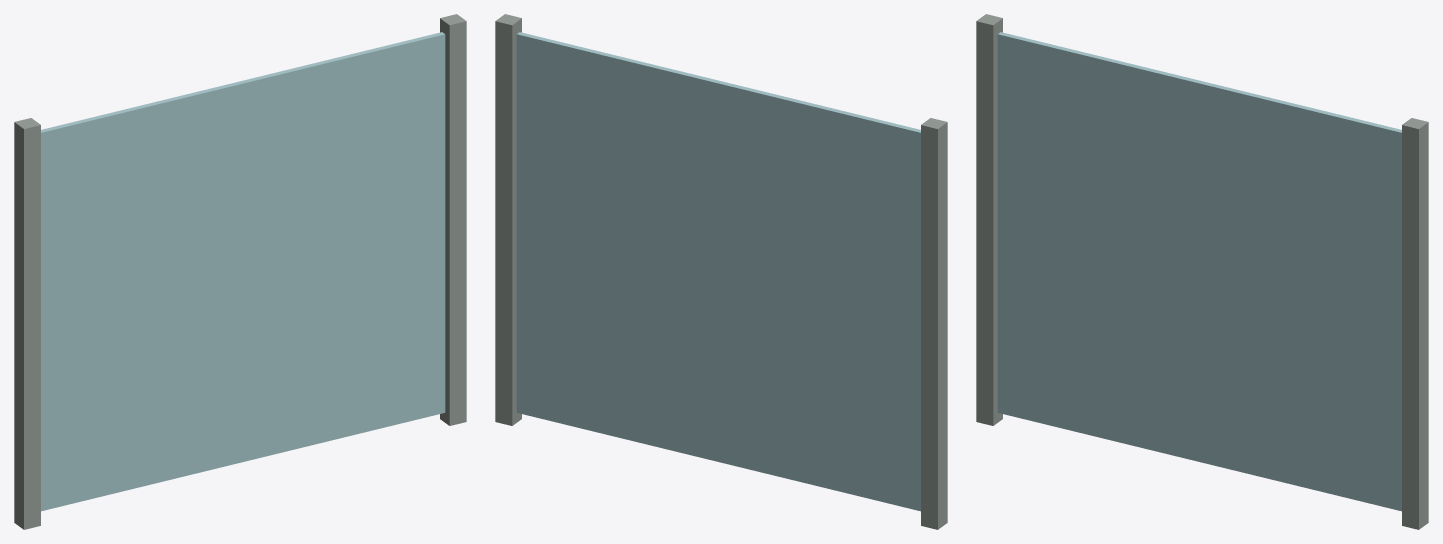
File: zoo-and-safari-park-builder-glass-viewing-straight-014e0c29__21432.glb
3 views of the same model, side by side, from view 1: azimuth 30°, elevation 25°; view 2: azimuth 150°, elevation 25°; view 3: azimuth 330°, elevation 25° (orthographic).
Parts seen in each view (by area): view 1: glass-viewing-straight; view 2: glass-viewing-straight; view 3: glass-viewing-straight.
Boxes of the visible parts, left/top/right/bottom form: glass-viewing-straight: left=14, top=14, right=466, bottom=529; glass-viewing-straight: left=495, top=14, right=947, bottom=529; glass-viewing-straight: left=976, top=14, right=1428, bottom=529.
Bounding box in the file's own units: 2.08 × 1.8 × 0.08.
